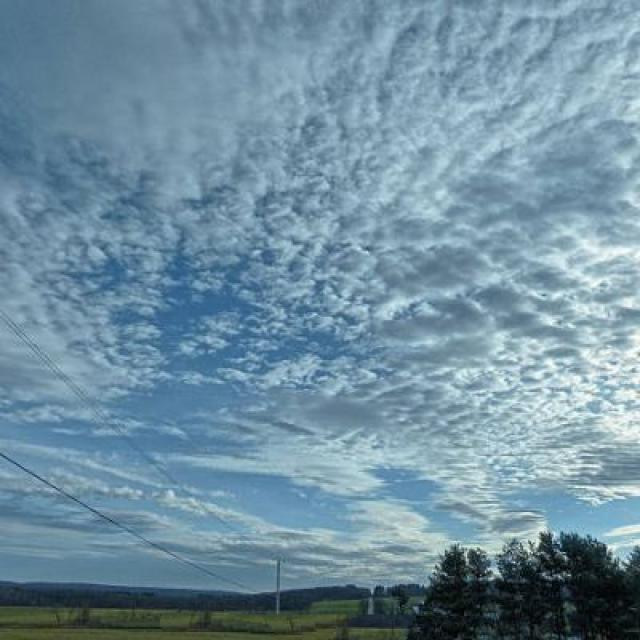Ci: (1, 37, 640, 449)
